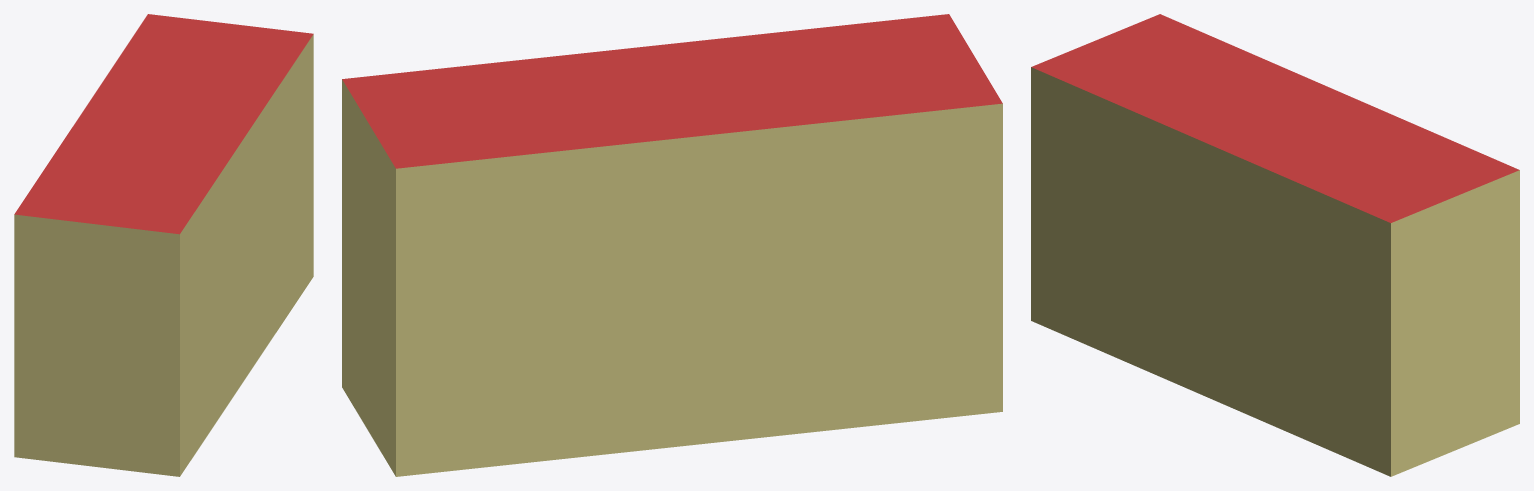
The picture shows the model from 3 angles, left to right: view 1: azimuth 30°, elevation 25°; view 2: azimuth 150°, elevation 25°; view 3: azimuth 270°, elevation 25°; orthographic projection. The views are drawn at different scales.
Parts seen in each view (by area): view 1: group_4, group_3; view 2: group_4, group_3; view 3: group_4, group_3.
Boxes of the visible parts, box(x1,y1,x2,y2) form: group_4: box(14, 34, 313, 476); group_3: box(14, 14, 313, 234); group_4: box(342, 79, 1002, 476); group_3: box(342, 14, 1002, 168); group_4: box(1031, 67, 1519, 476); group_3: box(1031, 14, 1519, 222).
Size of the model in its own units: 10.09 by 9.96 by 5.71.
